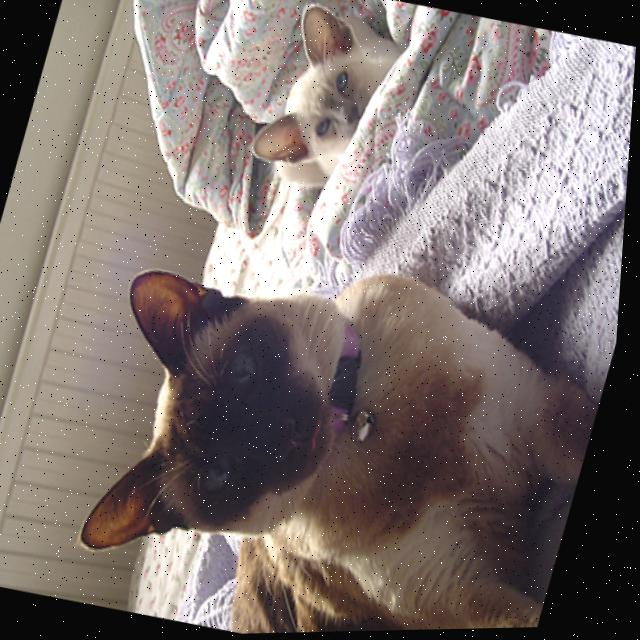Siamese: (45, 213, 628, 639)
